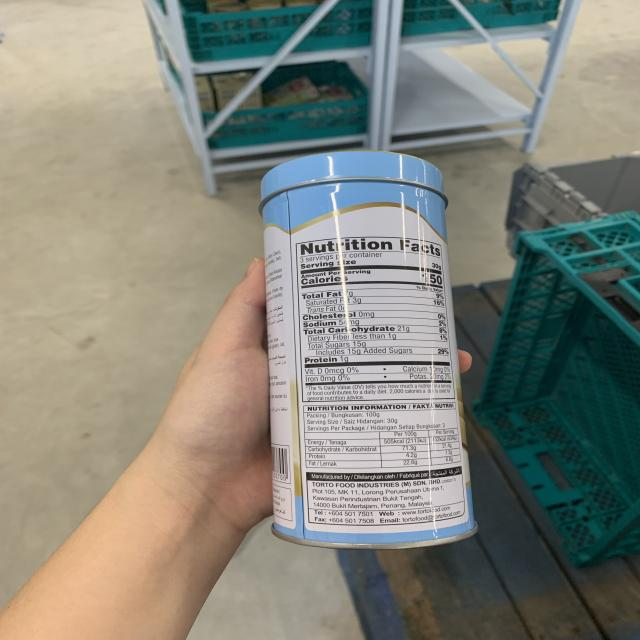object_name: (265, 173, 466, 541)
